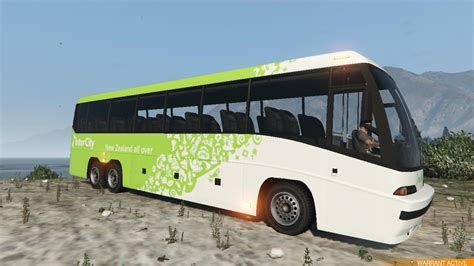bus: (72, 60, 427, 242)
